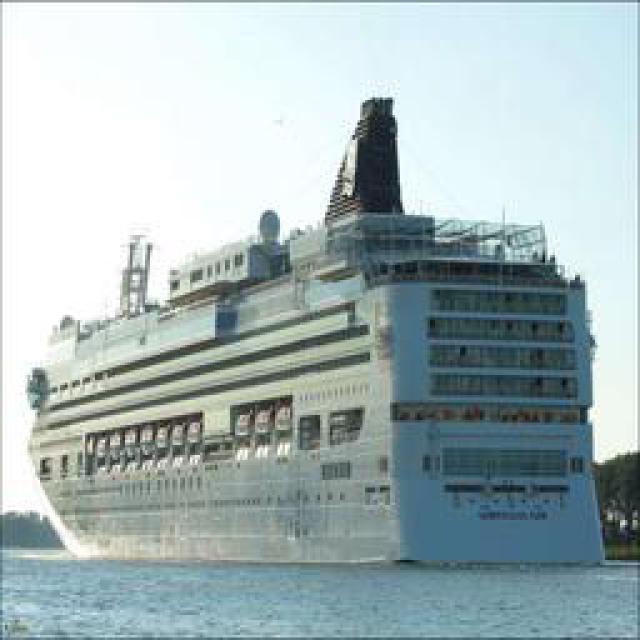Ship: (13, 89, 624, 576)
